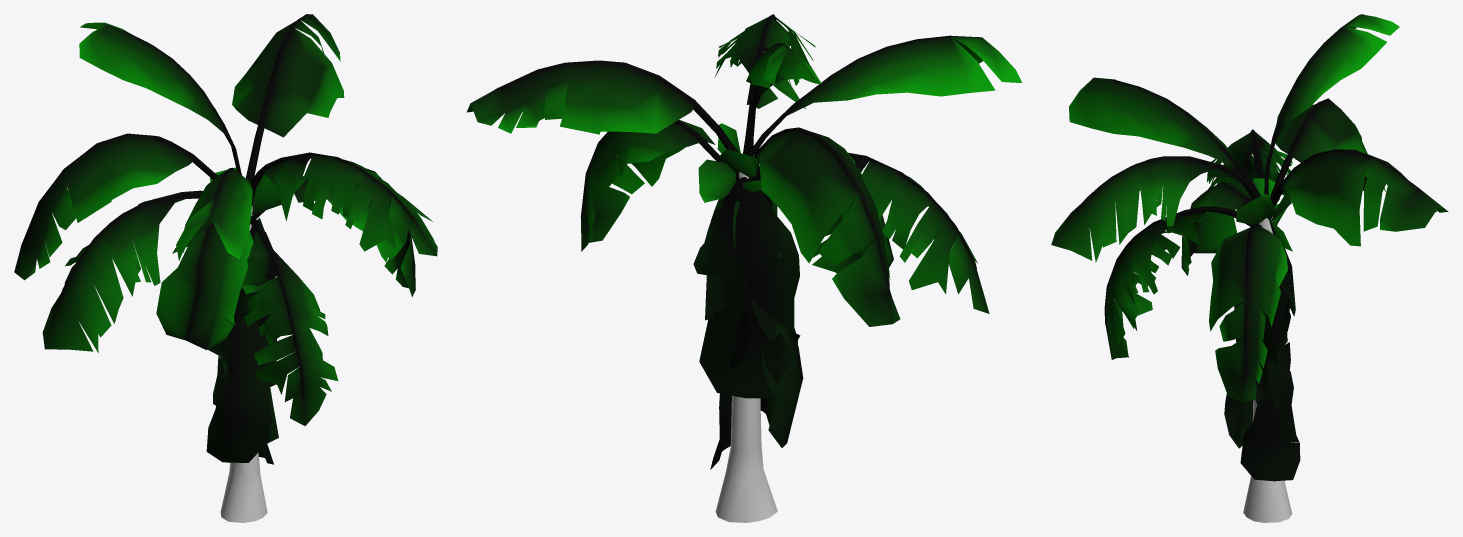
The model's file is BananaTree02_afsTREE_xlprl05_xlod01.fbx.
3 renders of one model, left to right at view 1: azimuth 30°, elevation 25°; view 2: azimuth 150°, elevation 25°; view 3: azimuth 270°, elevation 25°, orthographic. The views are drawn at different scales.
Visible parts, largest first — view 1: DyingBranch_xw03_xt05_xlp01_xp05, DyingBranch_xw03_xt05_xlp02_xp10, BananaLeaf_xw05_xt06_xlp04_xp02, BananaLeaf_xw09_xt10_xlp08_xp10, DyingBranch_xw07_xt10_xlp06_xp03, DeadBananaLeaf_xw01_xt03_xlp01_xp01, DeadBananaLeaf_xw00_xt00_xlp00.009, BananaLeaf_xw09_xt10_xlp09_xp01, BananaLeaf_xw08_xt11_xlp07_xp06, trunk_BananaTree01_xw03_xt02, BananaLeaf_xw04_xt07_xlp03_xp08, DeadBananaLeaf_xw01_xt01_xlp01_xp07.002; view 2: DeadBananaLeaf_xw00_xt00_xlp00.010, BananaLeaf_xw05_xt06_xlp04_xp02, BananaLeaf_xw09_xt10_xlp08_xp10, BananaLeaf_xw08_xt11_xlp07_xp06, DyingBranch_xw03_xt05_xlp01_xp05, BananaLeaf_xw04_xt07_xlp03_xp08, trunk_BananaTree01_xw03_xt02, DyingBranch_xw07_xt10_xlp06_xp03, DeadBananaLeaf_xw00_xt00_xlp00.009, BananaLeaf_xw09_xt10_xlp09_xp01, DeadBananaLeaf_xw01_xt01_xlp01_xp07.003, DeadBananaLeaf_xw00_xt00_xlp00.007 (+3 smaller); view 3: BananaLeaf_xw09_xt10_xlp08_xp10, BananaLeaf_xw04_xt07_xlp03_xp08, DyingBranch_xw07_xt10_xlp06_xp03, BananaLeaf_xw08_xt11_xlp07_xp06, DyingBranch_xw03_xt05_xlp02_xp10, BananaLeaf_xw09_xt10_xlp09_xp01, DeadBananaLeaf_xw00_xt00_xlp00.011, BananaLeaf_xw05_xt06_xlp04_xp02, DeadBananaLeaf_xw01_xt03_xlp01_xp01, DyingBranch_xw03_xt05_xlp01_xp05, trunk_BananaTree01_xw03_xt02, DeadBananaLeaf_xw00_xt00_xlp00.010 (+4 smaller).
Boxes of the visible parts, left/top/right/bottom form: DyingBranch_xw03_xt05_xlp01_xp05: left=42, top=190, right=202, bottom=352; DyingBranch_xw03_xt05_xlp02_xp10: left=241, top=215, right=338, bottom=425; BananaLeaf_xw05_xt06_xlp04_xp02: left=14, top=133, right=217, bottom=280; BananaLeaf_xw09_xt10_xlp08_xp10: left=232, top=14, right=344, bottom=182; DyingBranch_xw07_xt10_xlp06_xp03: left=250, top=152, right=437, bottom=256; DeadBananaLeaf_xw01_xt03_xlp01_xp01: left=156, top=217, right=253, bottom=349; DeadBananaLeaf_xw00_xt00_xlp00.009: left=206, top=319, right=272, bottom=462; BananaLeaf_xw09_xt10_xlp09_xp01: left=79, top=22, right=241, bottom=174; BananaLeaf_xw08_xt11_xlp07_xp06: left=176, top=167, right=252, bottom=260; trunk_BananaTree01_xw03_xt02: left=220, top=206, right=267, bottom=522; BananaLeaf_xw04_xt07_xlp03_xp08: left=252, top=168, right=415, bottom=296; DeadBananaLeaf_xw01_xt01_xlp01_xp07.002: left=252, top=174, right=281, bottom=214; DeadBananaLeaf_xw00_xt00_xlp00.010: left=693, top=165, right=799, bottom=398; BananaLeaf_xw05_xt06_xlp04_xp02: left=753, top=127, right=900, bottom=326; BananaLeaf_xw09_xt10_xlp08_xp10: left=466, top=60, right=738, bottom=152; BananaLeaf_xw08_xt11_xlp07_xp06: left=751, top=35, right=1021, bottom=156; DyingBranch_xw03_xt05_xlp01_xp05: left=752, top=152, right=989, bottom=313; BananaLeaf_xw04_xt07_xlp03_xp08: left=580, top=120, right=724, bottom=251; trunk_BananaTree01_xw03_xt02: left=715, top=172, right=777, bottom=522; DyingBranch_xw07_xt10_xlp06_xp03: left=714, top=14, right=815, bottom=154; DeadBananaLeaf_xw00_xt00_xlp00.009: left=750, top=296, right=803, bottom=447; BananaLeaf_xw09_xt10_xlp09_xp01: left=745, top=43, right=821, bottom=156; DeadBananaLeaf_xw01_xt01_xlp01_xp07.003: left=698, top=159, right=735, bottom=202; DeadBananaLeaf_xw00_xt00_xlp00.007: left=704, top=194, right=800, bottom=341; BananaLeaf_xw09_xt10_xlp08_xp10: left=1271, top=149, right=1448, bottom=246; BananaLeaf_xw04_xt07_xlp03_xp08: left=1209, top=223, right=1287, bottom=401; DyingBranch_xw07_xt10_xlp06_xp03: left=1051, top=156, right=1262, bottom=262; BananaLeaf_xw08_xt11_xlp07_xp06: left=1069, top=77, right=1260, bottom=196; DyingBranch_xw03_xt05_xlp02_xp10: left=1104, top=206, right=1252, bottom=359; BananaLeaf_xw09_xt10_xlp09_xp01: left=1264, top=14, right=1399, bottom=195; DeadBananaLeaf_xw00_xt00_xlp00.011: left=1240, top=359, right=1300, bottom=481; BananaLeaf_xw05_xt06_xlp04_xp02: left=1269, top=98, right=1367, bottom=199; DeadBananaLeaf_xw01_xt03_xlp01_xp01: left=1181, top=182, right=1252, bottom=275; DyingBranch_xw03_xt05_xlp01_xp05: left=1207, top=129, right=1292, bottom=195; trunk_BananaTree01_xw03_xt02: left=1243, top=216, right=1291, bottom=522; DeadBananaLeaf_xw00_xt00_xlp00.010: left=1234, top=215, right=1295, bottom=412.
Size of the model in its own units: 3.36 by 3.17 by 4.02.
